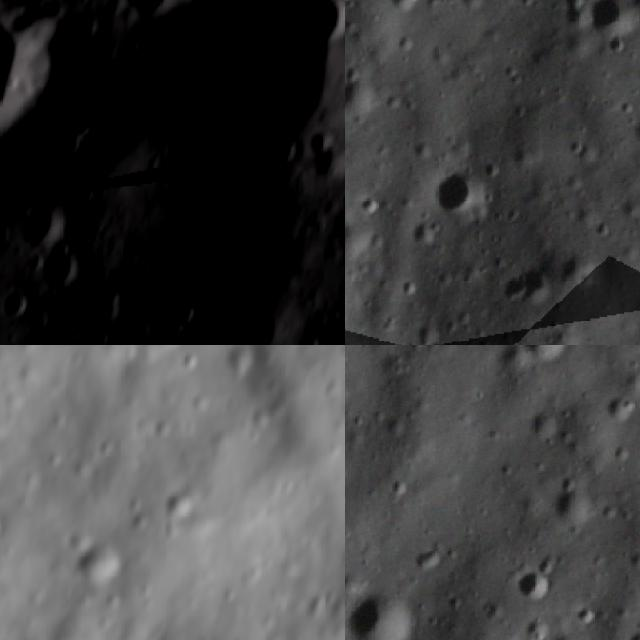crater: (0, 0, 81, 177), (187, 265, 307, 345), (56, 0, 241, 44), (13, 104, 99, 194), (347, 581, 425, 640), (8, 187, 74, 254), (288, 114, 345, 191), (422, 166, 485, 232), (32, 237, 94, 300), (68, 531, 125, 591), (495, 258, 552, 312), (545, 483, 600, 537), (578, 0, 638, 47), (508, 562, 562, 612), (345, 73, 384, 127), (0, 274, 38, 328), (163, 476, 200, 526), (516, 345, 579, 369), (400, 214, 438, 252), (600, 392, 640, 428), (329, 32, 345, 111), (383, 0, 423, 18), (615, 623, 640, 640), (336, 528, 345, 572), (631, 159, 640, 202)
